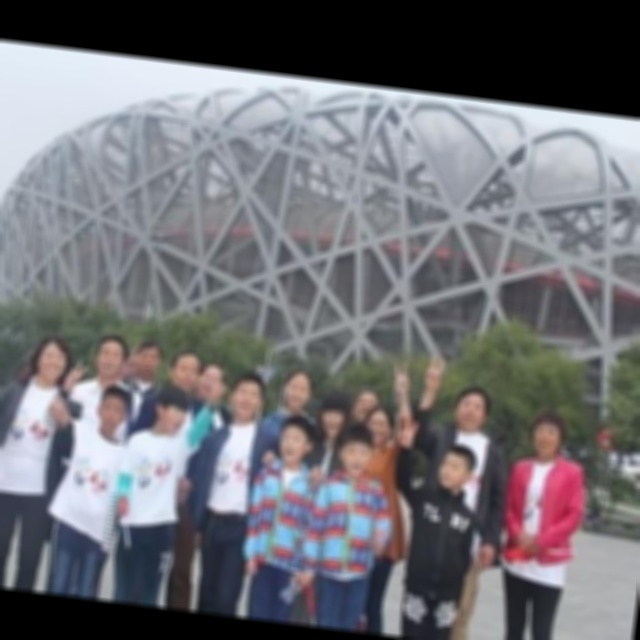Sin_Casco_Mascarrilla: (31, 332, 73, 387), (527, 410, 568, 461), (91, 334, 129, 384), (453, 382, 491, 431)
